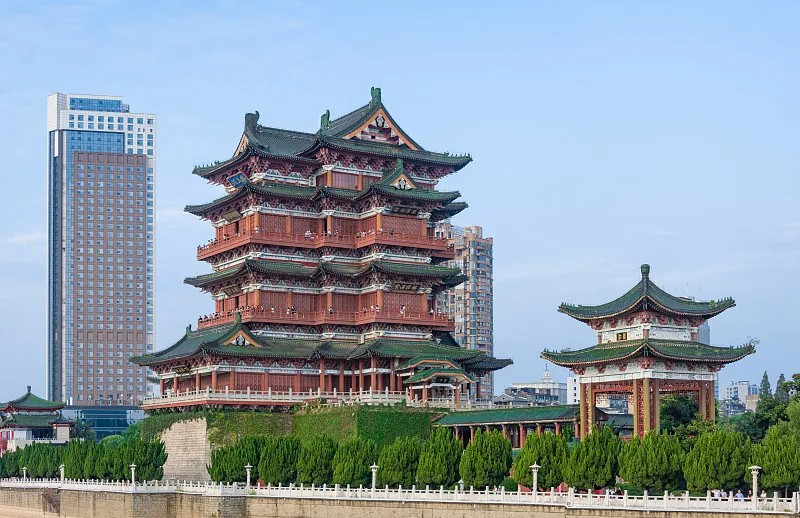Teng: (128, 88, 513, 405)
